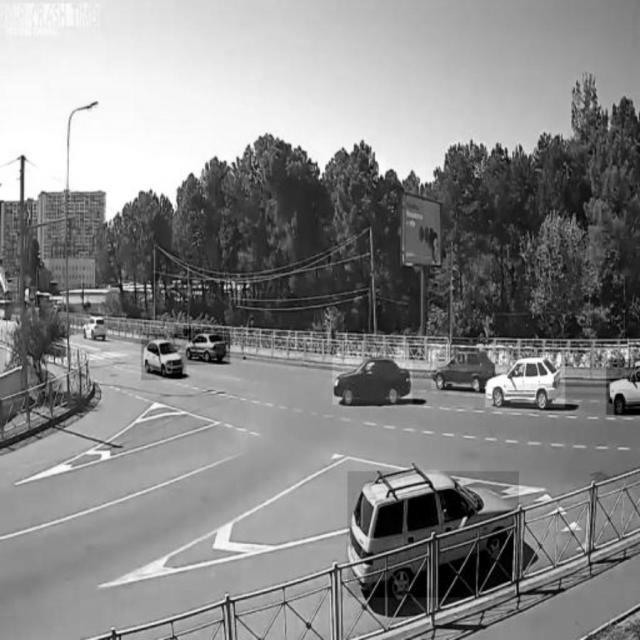vehicle: (348, 471, 518, 597), (332, 352, 413, 406), (485, 356, 565, 408), (432, 344, 494, 389), (141, 334, 186, 380), (606, 359, 640, 415), (183, 329, 230, 365), (83, 311, 109, 339)
